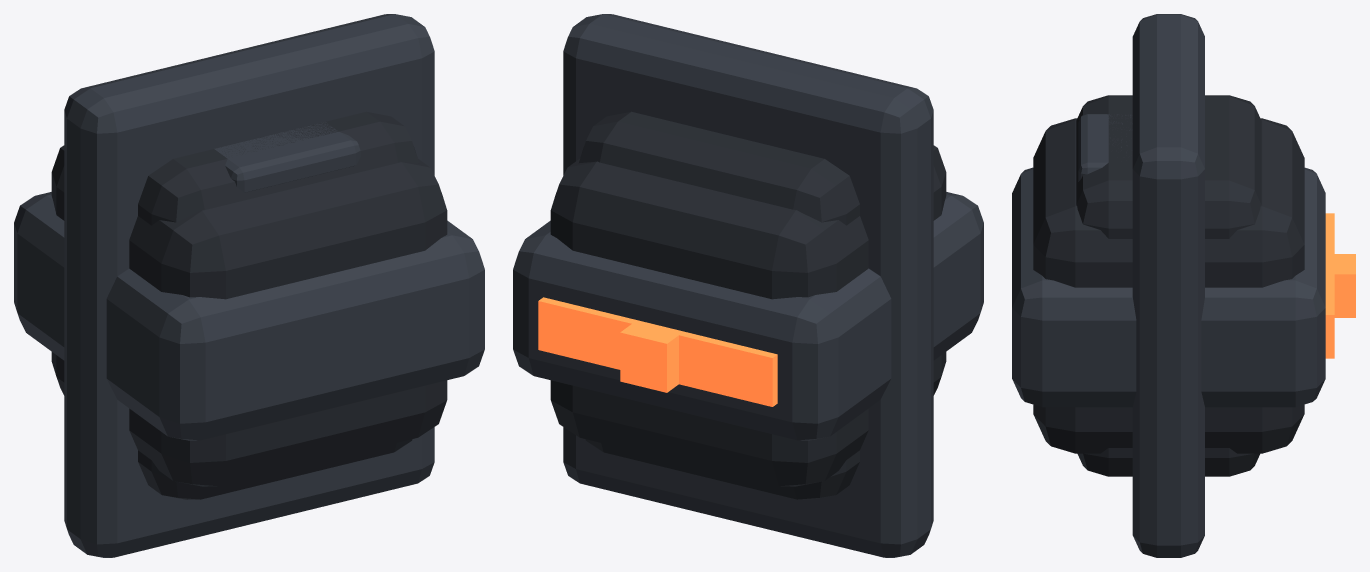
The model's file is enemy_kit.glb.
3 views of the same model, side by side, from view 1: azimuth 30°, elevation 25°; view 2: azimuth 150°, elevation 25°; view 3: azimuth 270°, elevation 25° (orthographic). The views are drawn at different scales.
Visible parts, largest first — view 1: enemy_shield, enemy_crown, enemy_head, enemy_torso; view 2: enemy_shield, enemy_crown, enemy_head, enemy_torso, enemy_gun; view 3: enemy_shield, enemy_crown, enemy_head, enemy_torso, enemy_gun.
Boxes of the visible parts, <box> form: enemy_shield: <box>64,14,434,557</box>; enemy_crown: <box>14,192,484,440</box>; enemy_head: <box>51,122,447,486</box>; enemy_torso: <box>138,111,418,499</box>; enemy_shield: <box>563,14,933,557</box>; enemy_crown: <box>513,192,983,440</box>; enemy_head: <box>550,145,946,486</box>; enemy_torso: <box>579,111,859,499</box>; enemy_gun: <box>620,321,681,392</box>; enemy_shield: <box>1132,14,1204,557</box>; enemy_crown: <box>1012,167,1334,407</box>; enemy_head: <box>1033,114,1304,453</box>; enemy_torso: <box>1076,95,1261,476</box>; enemy_gun: <box>1325,254,1355,317</box>.
Size of the model in its own units: 0.6 by 0.75 by 0.57.
